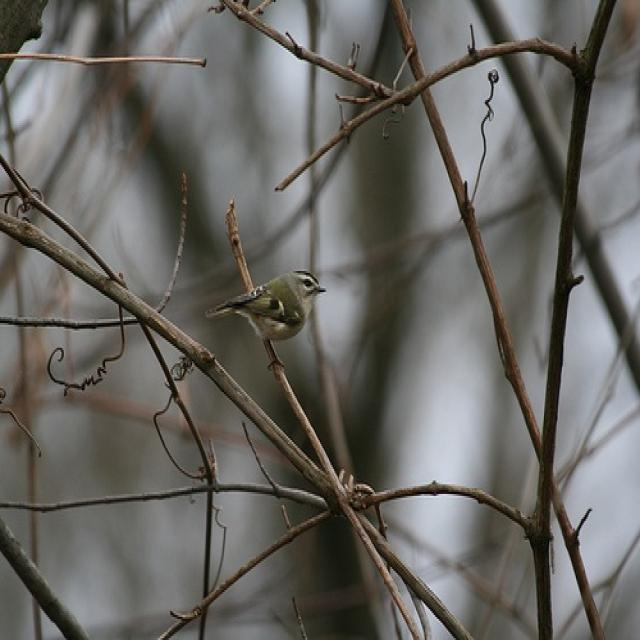bird: (205, 261, 326, 377)
